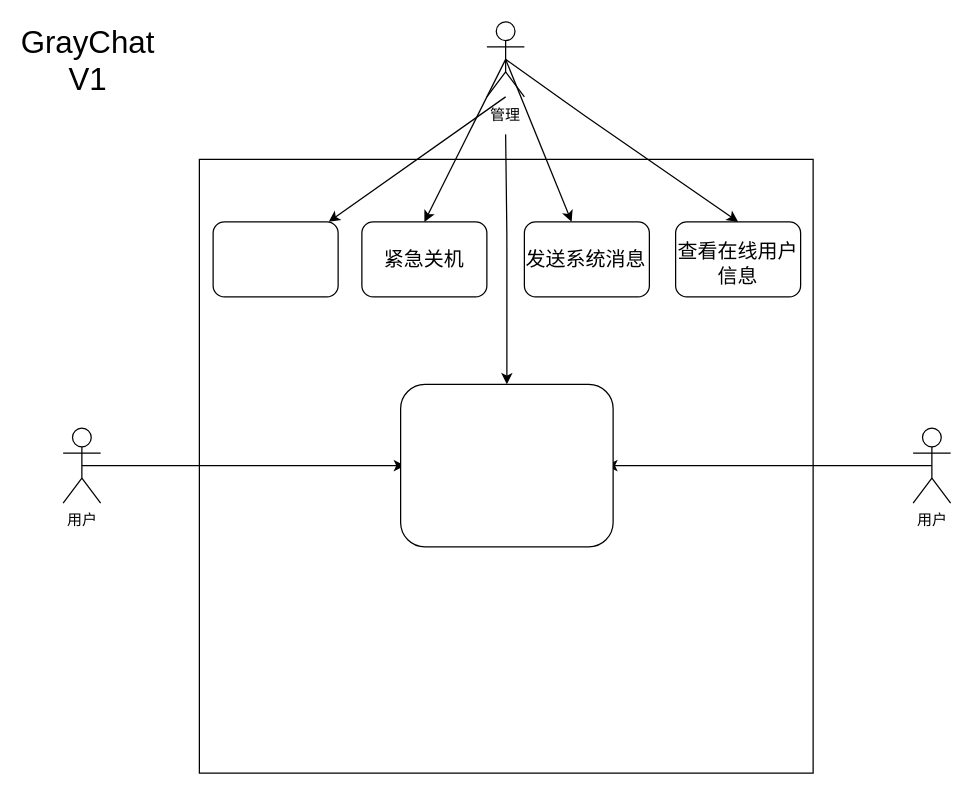
This 973x795 diagram has some shape labels left out. Here are the shapes that lost their labels. From the top down, the centre of each, then its label:
At (275,259): "查看历史消息".
At (506,465): "公共聊天 系统通知 服务器历史文件 在线用户数量".
